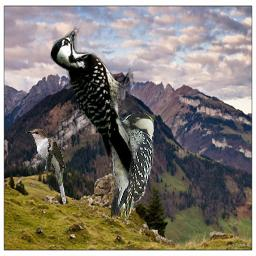Cuckoo: (25, 128, 66, 204)
Woodpecker: (49, 26, 134, 183), (111, 112, 154, 219)
